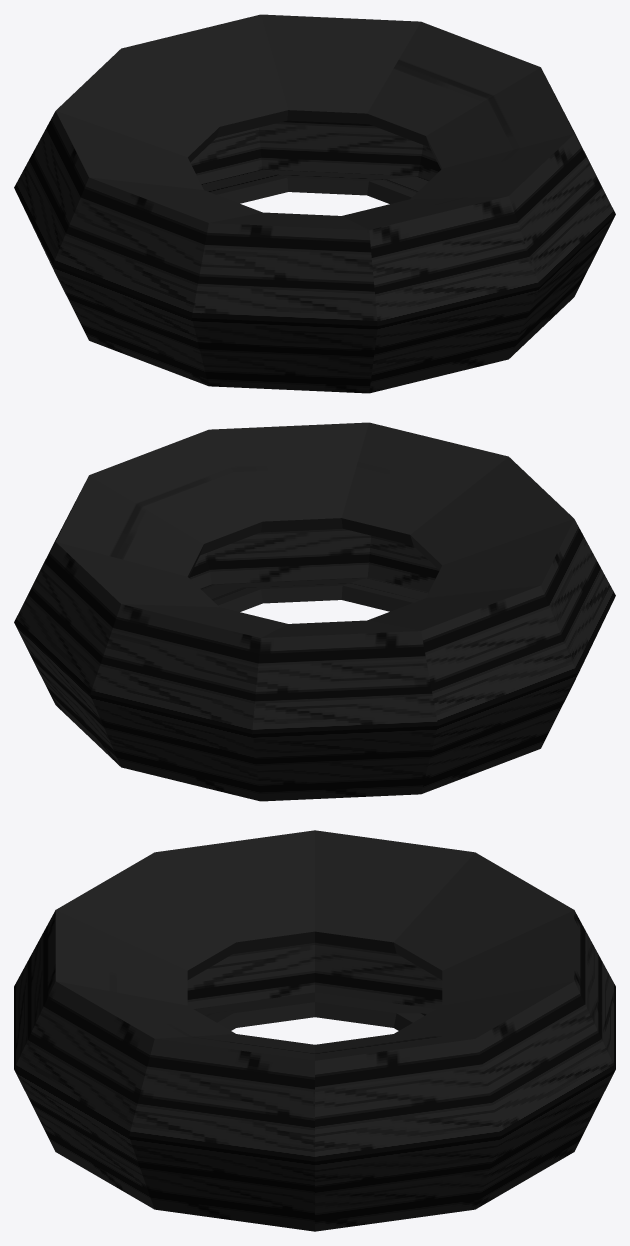
File: Pneu.fbx
3 views of the same model, one above another, from view 1: azimuth 30°, elevation 25°; view 2: azimuth 150°, elevation 25°; view 3: azimuth 270°, elevation 25° (orthographic). The views are drawn at different scales.
Visible parts, largest first — view 1: Toróide; view 2: Toróide; view 3: Toróide.
Part boxes in pixels (<box>): Toróide: <box>14,14,615,393</box>; Toróide: <box>14,422,615,801</box>; Toróide: <box>14,830,615,1231</box>.
Size of the model in its own units: 250 by 74.44 by 238.
Materials: 1 (1 with a texture image).
